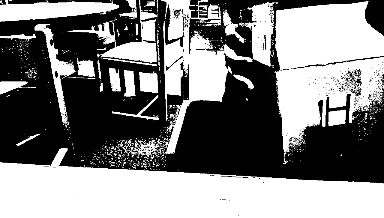H: (320, 89, 352, 125)
